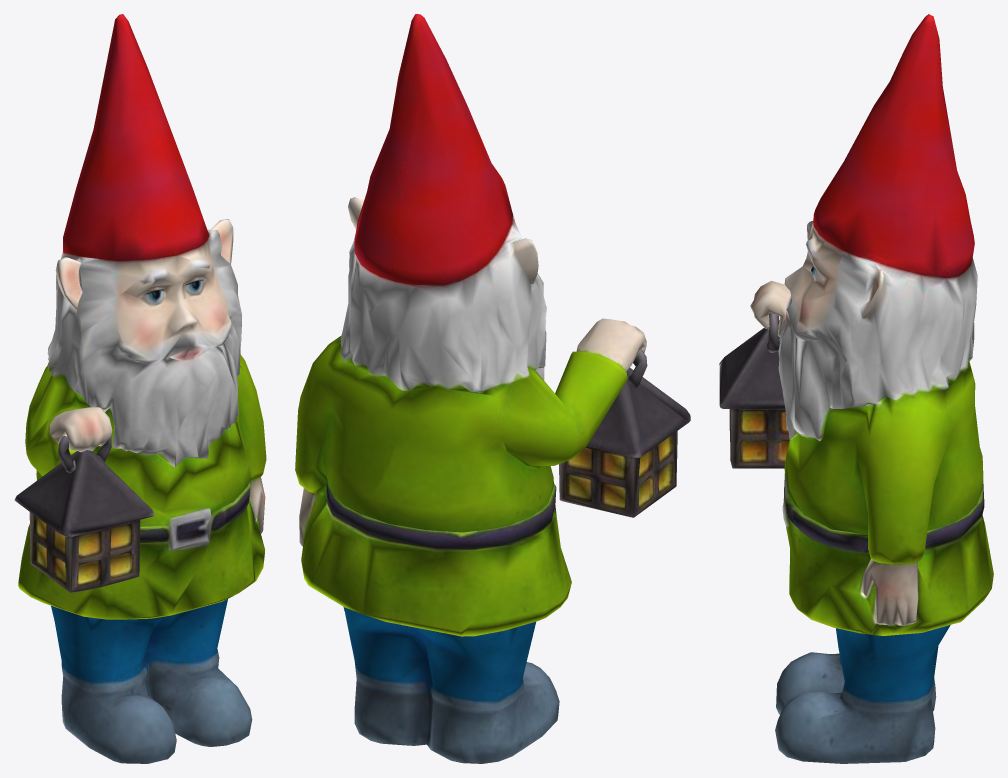
File: garden_gnome_1k.gltf
The picture shows the model from 3 angles, left to right: view 1: azimuth 30°, elevation 25°; view 2: azimuth 150°, elevation 25°; view 3: azimuth 270°, elevation 25°; orthographic projection. The views are drawn at different scales.
Parts seen in each view (by area): view 1: garden_gnome; view 2: garden_gnome; view 3: garden_gnome.
Part boxes in pixels (bbox=[...]): garden_gnome: bbox=[14, 14, 266, 763]; garden_gnome: bbox=[295, 14, 690, 763]; garden_gnome: bbox=[719, 14, 993, 763].
Size of the model in its own units: 0.2574 by 0.5984 by 0.2092.
1 material, 1 textured.
